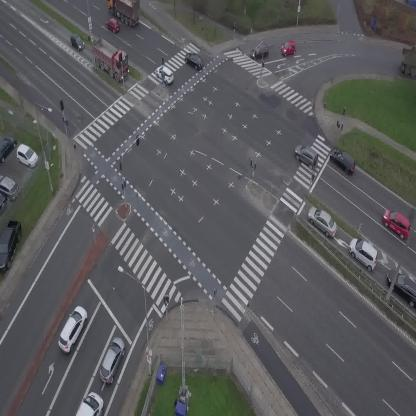car: (53, 303, 92, 354), (95, 335, 129, 385), (343, 234, 384, 272), (303, 203, 343, 240), (327, 145, 360, 176), (290, 141, 323, 171), (153, 63, 176, 86), (182, 50, 206, 71), (65, 32, 86, 54), (103, 16, 123, 35), (279, 40, 298, 57), (249, 44, 269, 59)
lorry: (83, 33, 138, 84), (107, 0, 140, 27), (75, 392, 103, 416), (401, 45, 416, 75)
